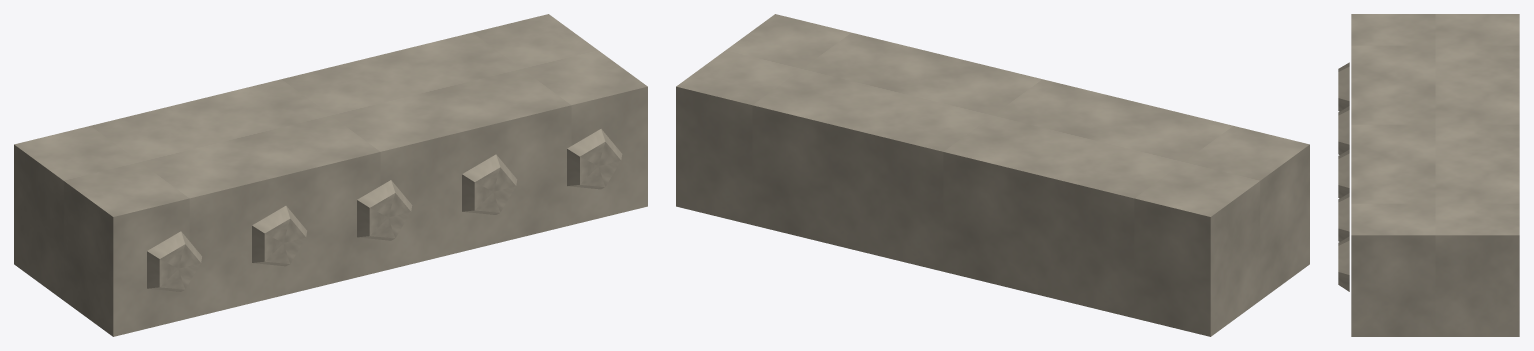
The model's file is Ruin_Wall_3_LOD1.gltf.
The picture shows the model from 3 angles, left to right: view 1: azimuth 30°, elevation 25°; view 2: azimuth 150°, elevation 25°; view 3: azimuth 270°, elevation 25°; orthographic projection. The views are drawn at different scales.
Parts seen in each view (by area): view 1: Ruin_Wall_3_LOD1; view 2: Ruin_Wall_3_LOD1; view 3: Ruin_Wall_3_LOD1.
Boxes of the visible parts, x1,y1,x2,y2 form: Ruin_Wall_3_LOD1: (14,14,647,336); Ruin_Wall_3_LOD1: (676,14,1309,336); Ruin_Wall_3_LOD1: (1338,14,1519,336).
Size of the model in its own units: 2.8 by 0.6 by 0.97.
1 material, 1 textured.
